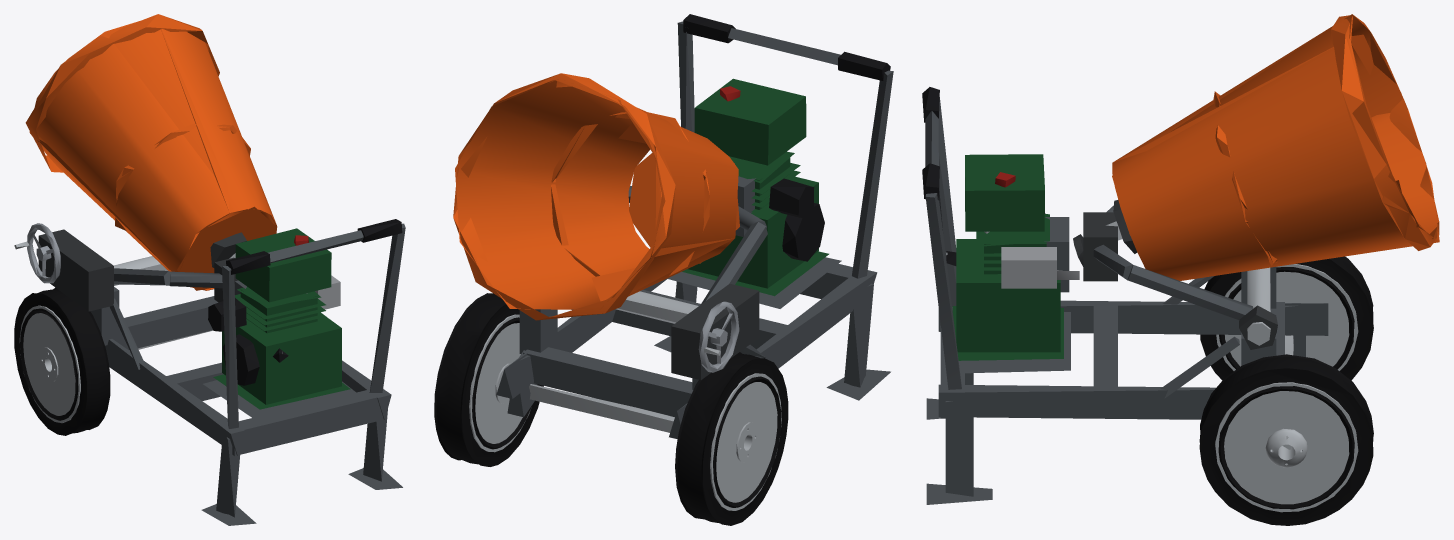
Rendered from mixer.glb.
The picture shows the model from 3 angles, left to right: view 1: azimuth 30°, elevation 25°; view 2: azimuth 150°, elevation 25°; view 3: azimuth 270°, elevation 25°; orthographic projection. The views are drawn at different scales.
Parts seen in each view (by area): view 1: drum, frame, engine, wheel_left, drum_cradle, tilt_handwheel; view 2: drum, frame, engine, wheel_left, wheel_right, drum_cradle, tilt_handwheel; view 3: drum, frame, wheel_right, engine, wheel_left, drum_cradle.
Part boxes in pixels (x1,y1,x2,y2): drum: (25, 14, 277, 290); frame: (38, 219, 405, 525); engine: (208, 228, 350, 409); wheel_left: (14, 287, 110, 435); drum_cradle: (114, 256, 238, 302); tilt_handwheel: (14, 223, 60, 283); drum: (453, 73, 739, 320); frame: (496, 14, 893, 439); engine: (682, 78, 828, 296); wheel_left: (675, 352, 788, 525); wheel_right: (434, 293, 543, 466); drum_cradle: (616, 186, 767, 323); tilt_handwheel: (698, 301, 739, 372); drum: (1106, 14, 1439, 280); frame: (922, 87, 1328, 504); wheel_right: (1199, 354, 1373, 525); engine: (946, 154, 1079, 360); wheel_left: (1200, 256, 1373, 380); drum_cradle: (1073, 205, 1270, 345).
Bounding box in the file's own units: 0.9647 × 1.38 × 1.49.
